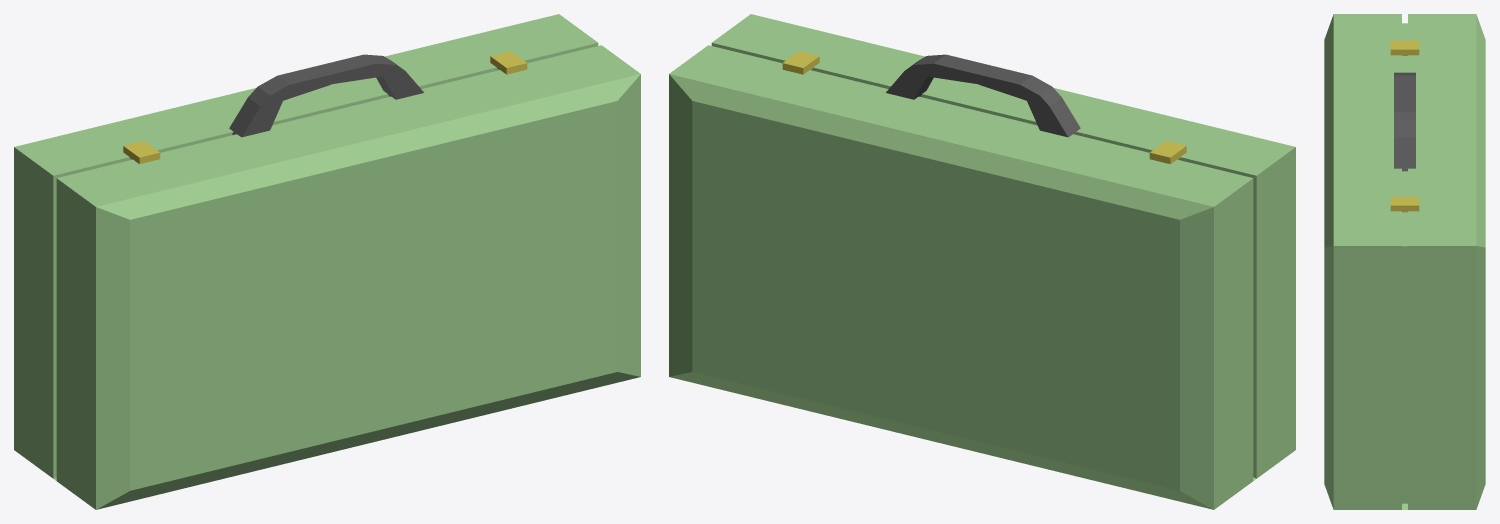
Rendered from Suitcase.fbx.
3 views of the same model, side by side, from view 1: azimuth 30°, elevation 25°; view 2: azimuth 150°, elevation 25°; view 3: azimuth 270°, elevation 25° (orthographic). The views are drawn at different scales.
Visible parts, largest first — view 1: Suitcase; view 2: Suitcase; view 3: Suitcase.
Boxes of the visible parts, x1=… form: Suitcase: x1=14, y1=14, x2=640, y2=509; Suitcase: x1=669, y1=14, x2=1295, y2=509; Suitcase: x1=1324, y1=14, x2=1485, y2=509.
Bounding box in the file's own units: 144 × 86.82 × 42.4.
